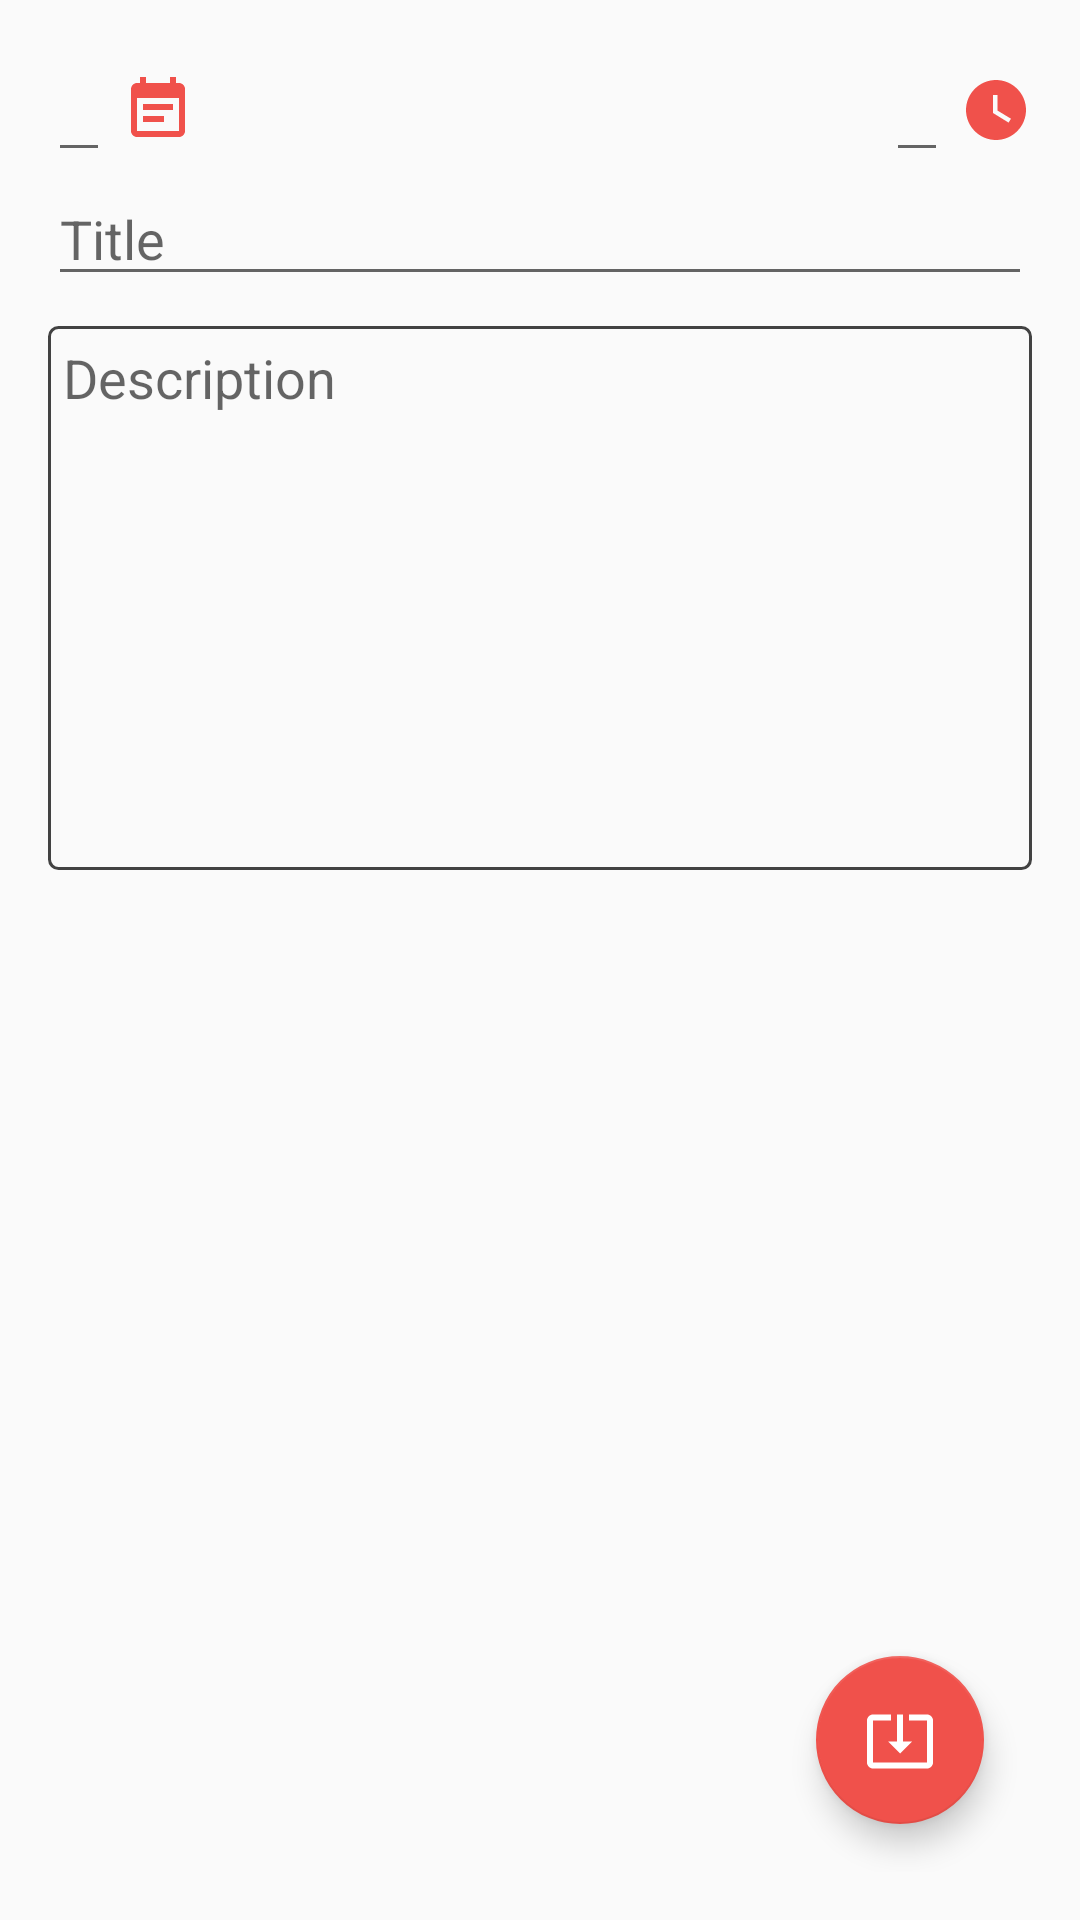

Where to tap for icons on this 1080x1920 app screen, as (x,y):
calendar: (158,107)
watch: (996,110)
